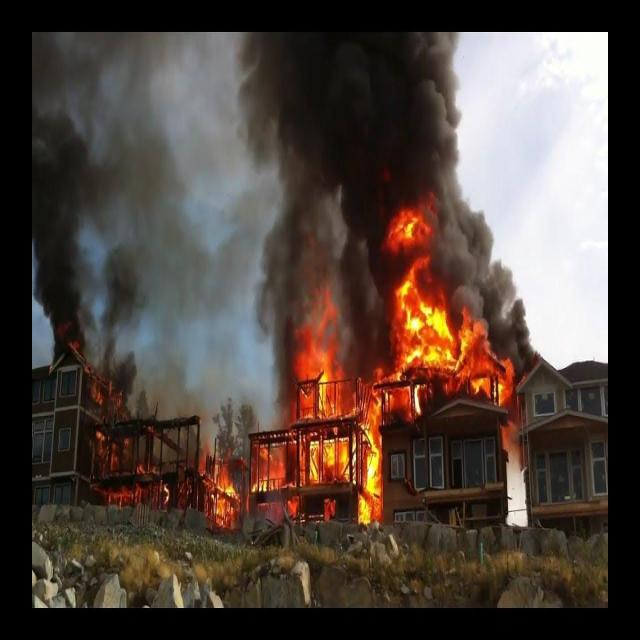Fire: (215, 187, 525, 529)
